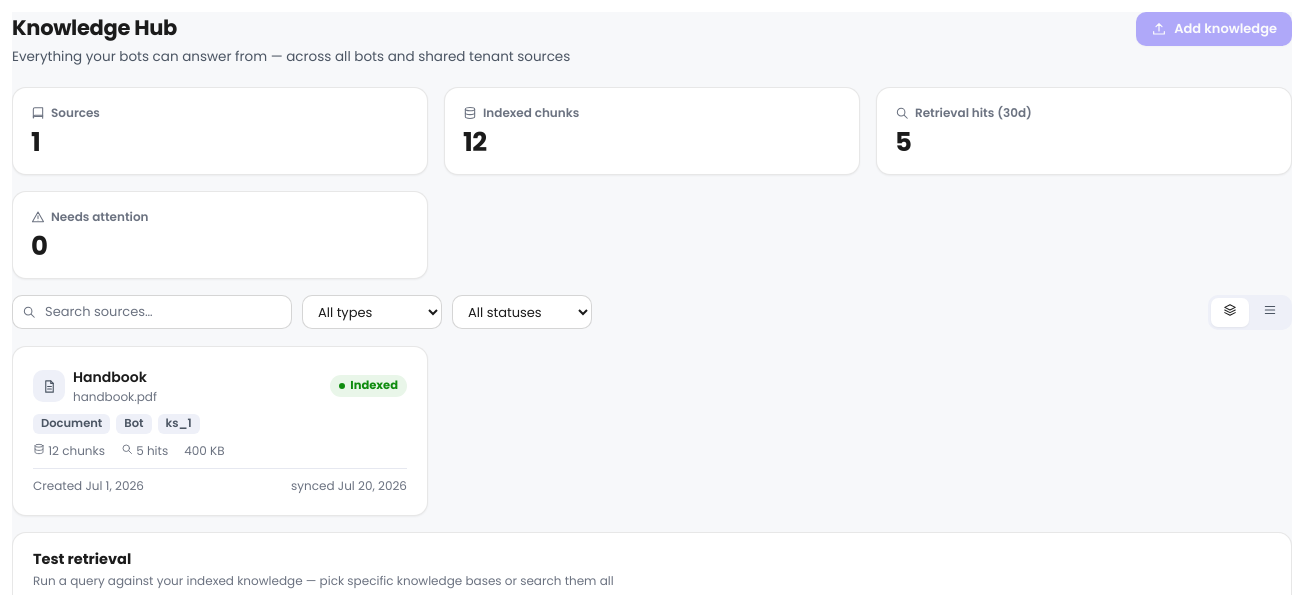
Test case: KnowledgeHub — search sources › switches to the table view
The image size is (1304, 595).
Check: the button with aria-label "Open Handbook" is shown, box [12, 346, 428, 516]
Click the button named "Table view": (1270, 312) [1251, 298, 1289, 326]
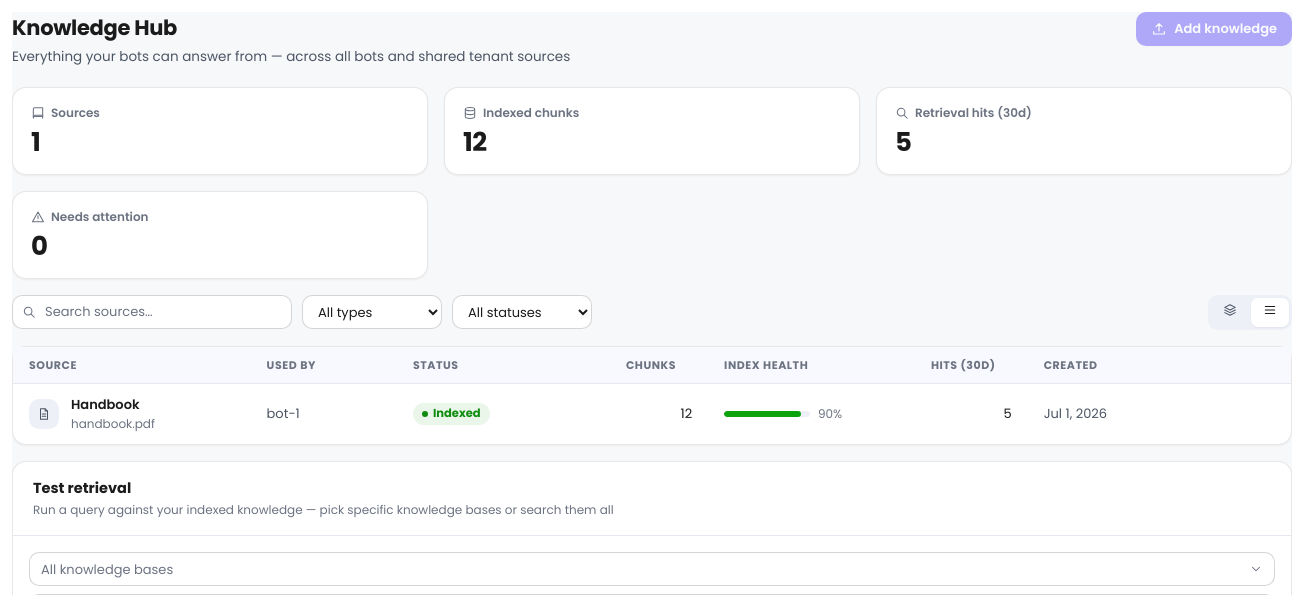
Check: the table is shown, box [13, 346, 1291, 444]
